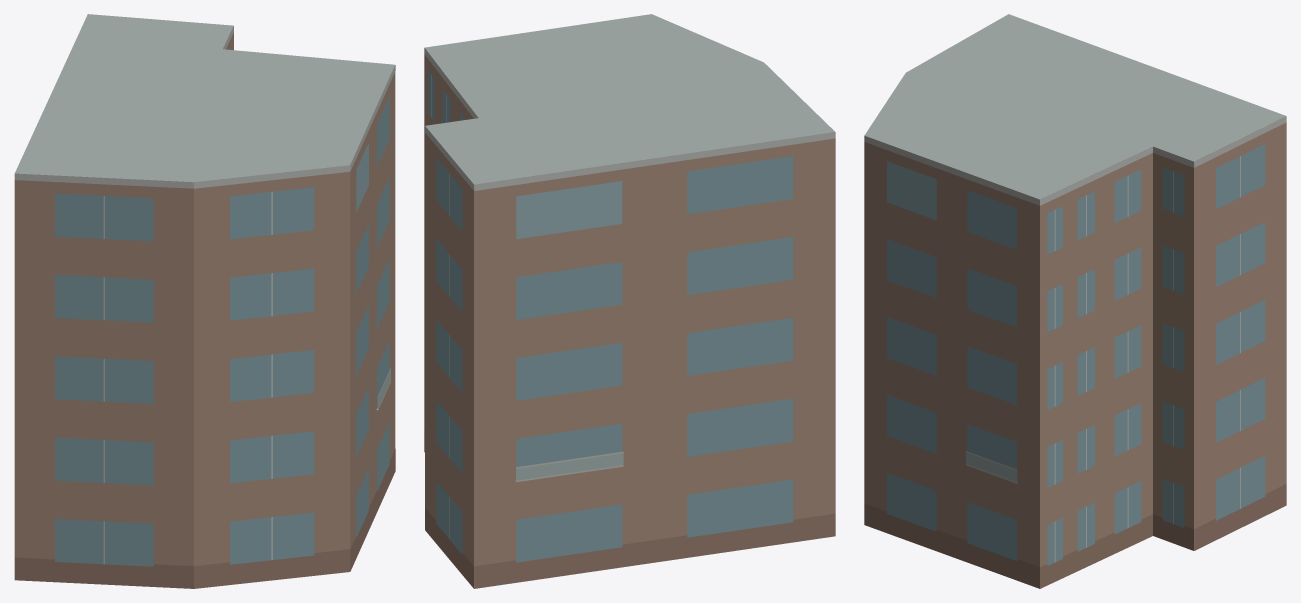
Rendered from survey-upis-32984539.glb.
3 renders of one model, left to right at view 1: azimuth 30°, elevation 25°; view 2: azimuth 150°, elevation 25°; view 3: azimuth 270°, elevation 25°, orthographic. The views are drawn at different scales.
Visible parts, largest first — view 1: survey-upis-32984539.tmp; view 2: survey-upis-32984539.tmp; view 3: survey-upis-32984539.tmp.
Boxes of the visible parts, box(x1,y1,x2,y2) form: survey-upis-32984539.tmp: box(14, 14, 395, 588); survey-upis-32984539.tmp: box(424, 14, 835, 588); survey-upis-32984539.tmp: box(864, 14, 1286, 588).
Size of the model in its own units: 15.6 by 15.25 by 15.
